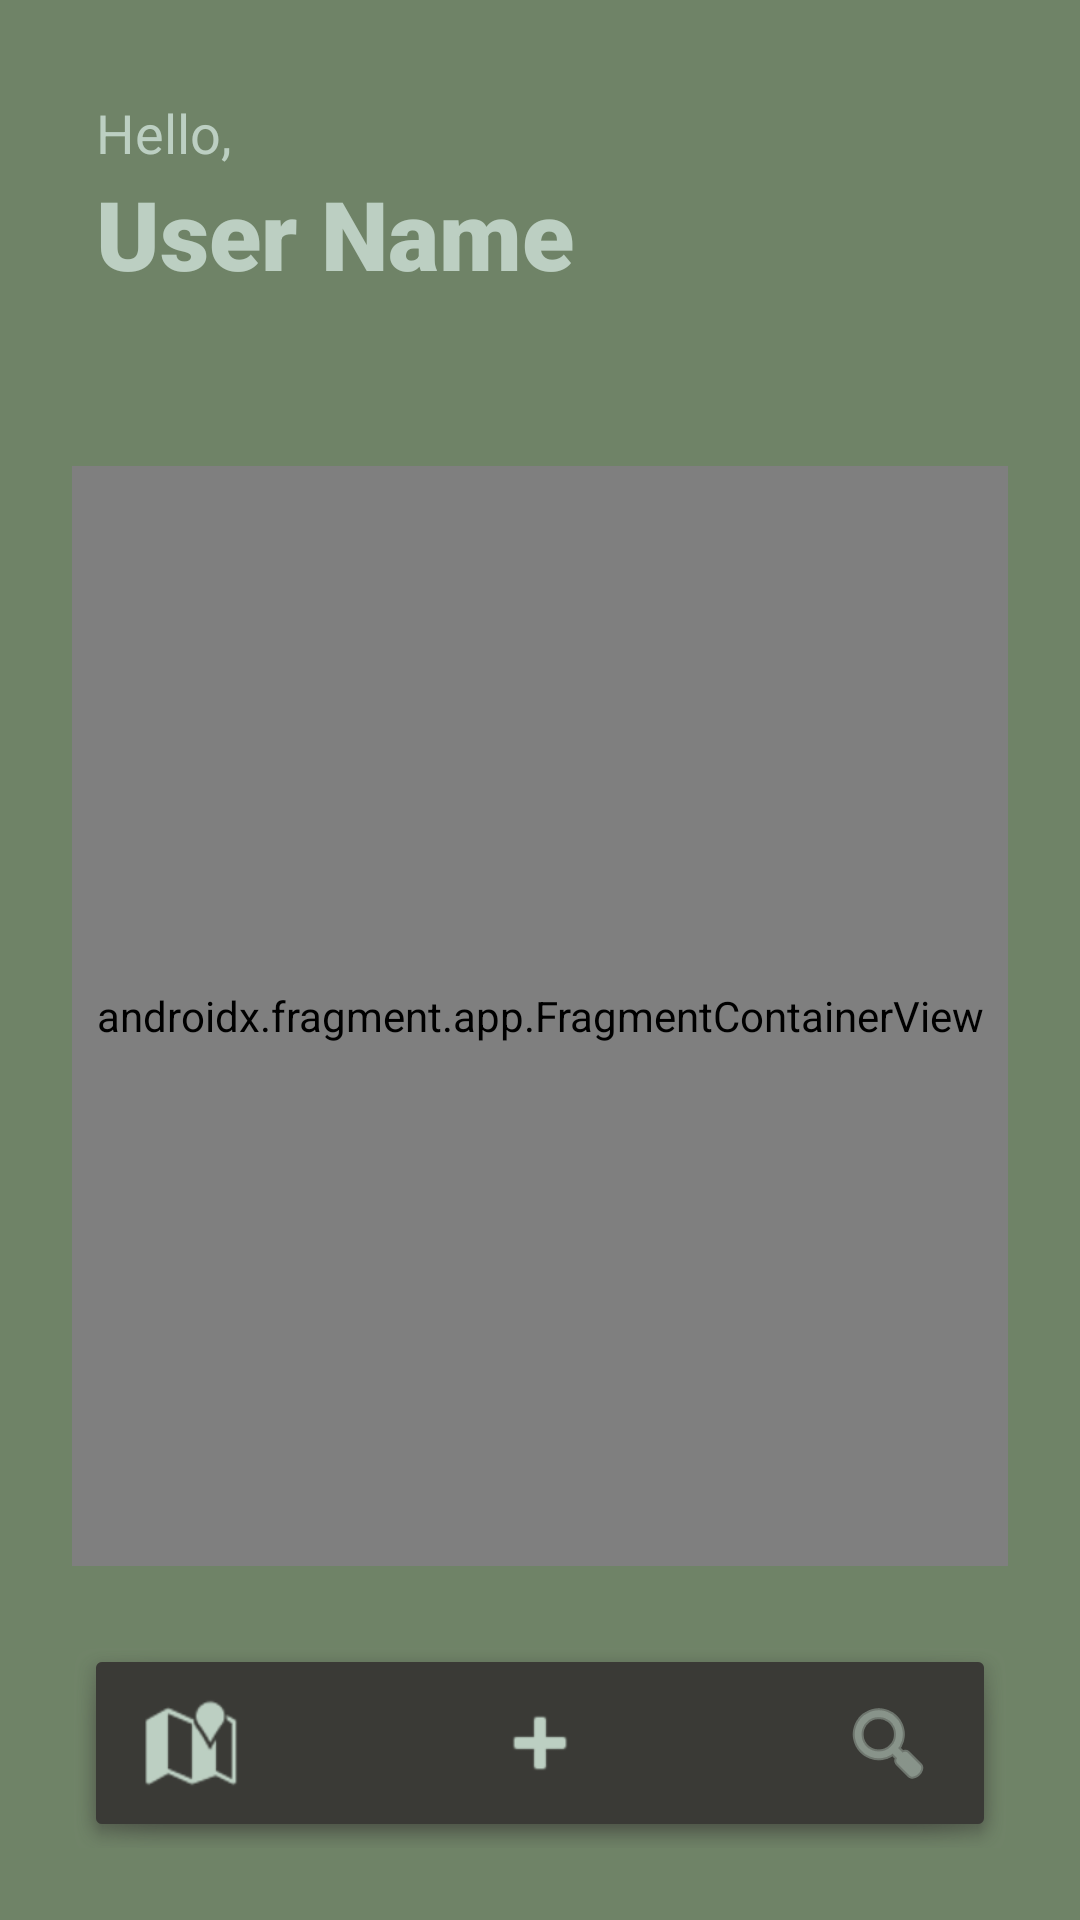

Locate icon controls on the screen. Image size 1080w x 1920h, boxes as (x1, y1, x2, y2).
add: (513, 1716, 567, 1770)
map: (145, 1701, 237, 1785)
search: (853, 1708, 923, 1779)
